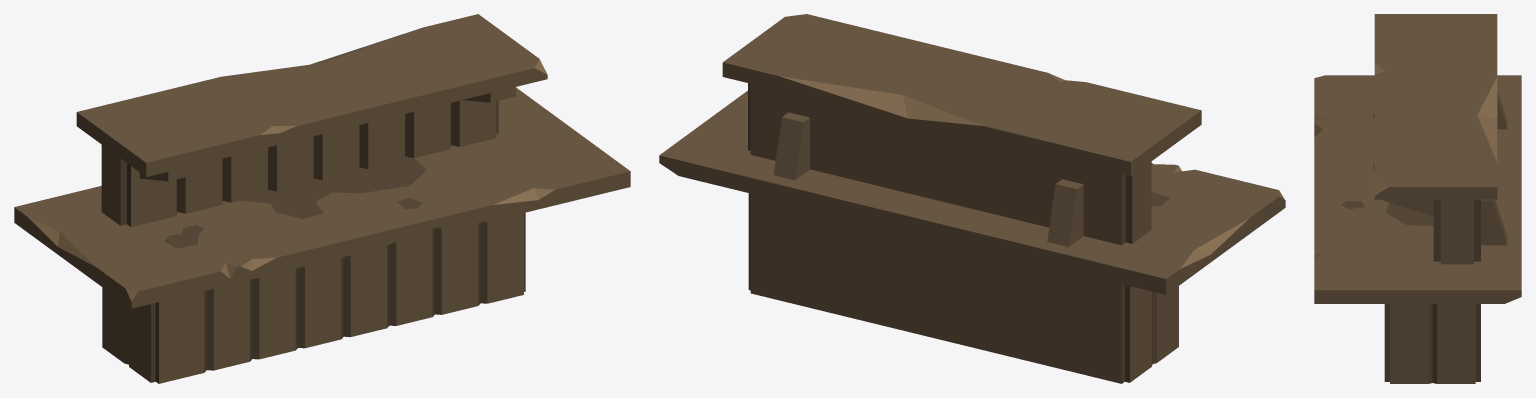
Rendered from stall_table.glb.
The picture shows the model from 3 angles, left to right: view 1: azimuth 30°, elevation 25°; view 2: azimuth 150°, elevation 25°; view 3: azimuth 270°, elevation 25°; orthographic projection. The views are drawn at different scales.
Visible parts, largest first — view 1: SM_Prop_Stall_Table_01; view 2: SM_Prop_Stall_Table_01; view 3: SM_Prop_Stall_Table_01.
Part boxes in pixels (x1,y1,x2,y2): SM_Prop_Stall_Table_01: (14, 14, 630, 383); SM_Prop_Stall_Table_01: (659, 14, 1285, 383); SM_Prop_Stall_Table_01: (1314, 14, 1521, 383).
Bounding box in the file's own units: 248 × 109 × 101.
1 material, 1 textured.
